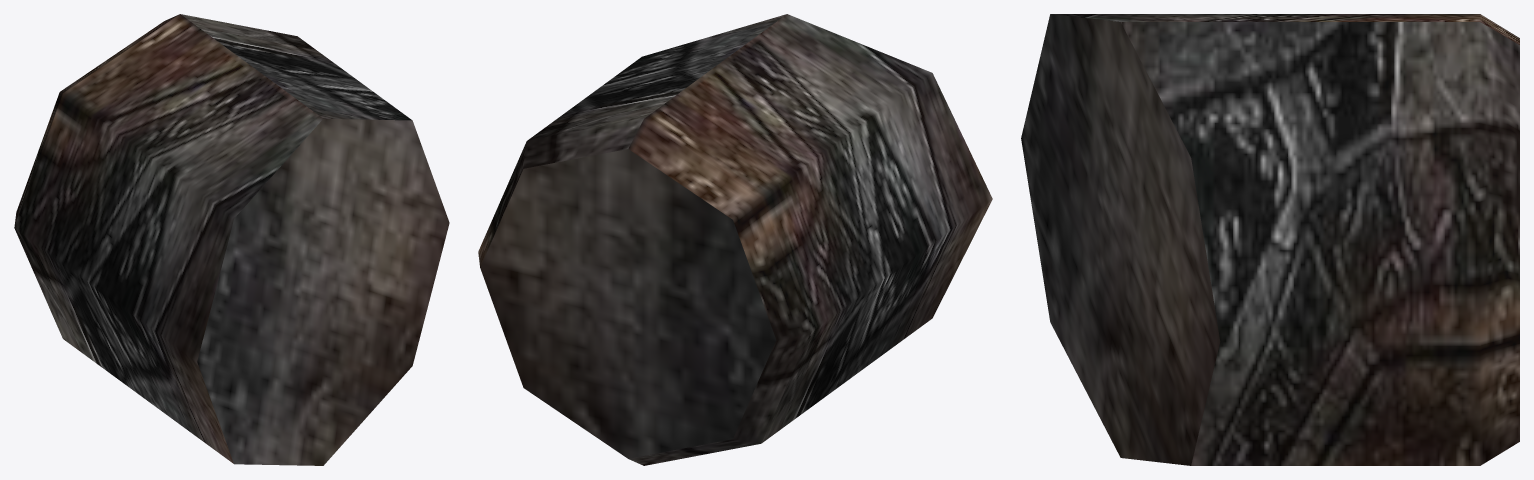
The picture shows the model from 3 angles, left to right: view 1: azimuth 30°, elevation 25°; view 2: azimuth 150°, elevation 25°; view 3: azimuth 270°, elevation 25°; orthographic projection. The views are drawn at different scales.
Parts seen in each view (by area): view 1: model_Object15; view 2: model_Object15; view 3: model_Object15.
Part boxes in pixels (x1=…): model_Object15: x1=14, y1=14, x2=449, y2=465; model_Object15: x1=478, y1=14, x2=992, y2=465; model_Object15: x1=1021, y1=14, x2=1519, y2=465.
Size of the model in its own units: 0.9573 by 0.9573 by 0.9928.
Materials: 1 (1 with a texture image).
